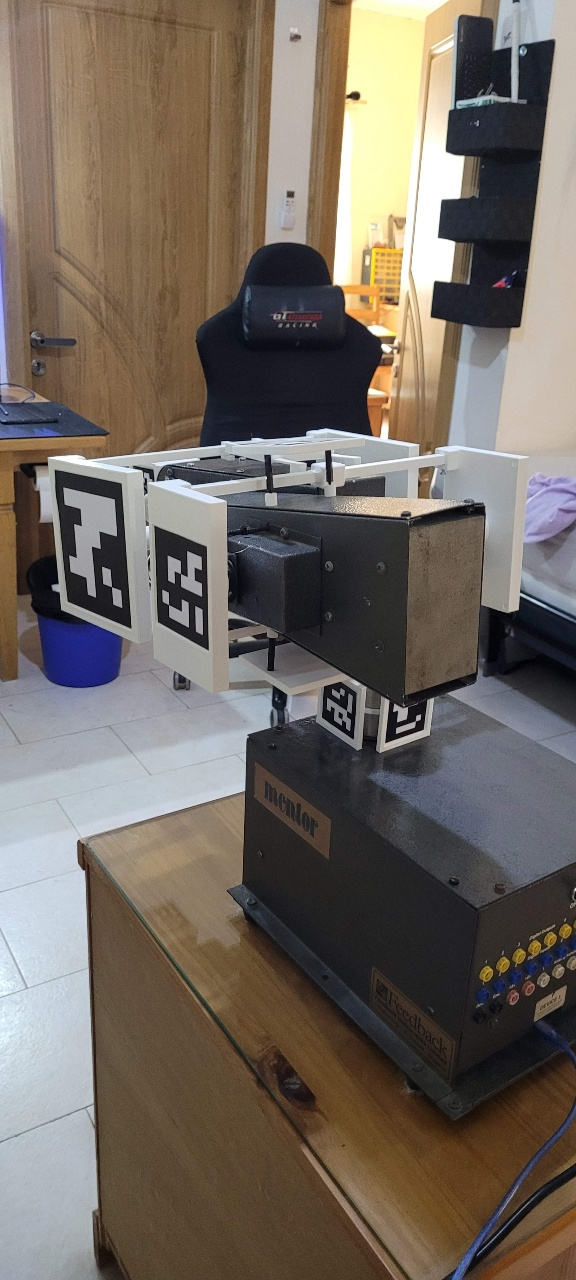Robot: (1, 255, 576, 953)
